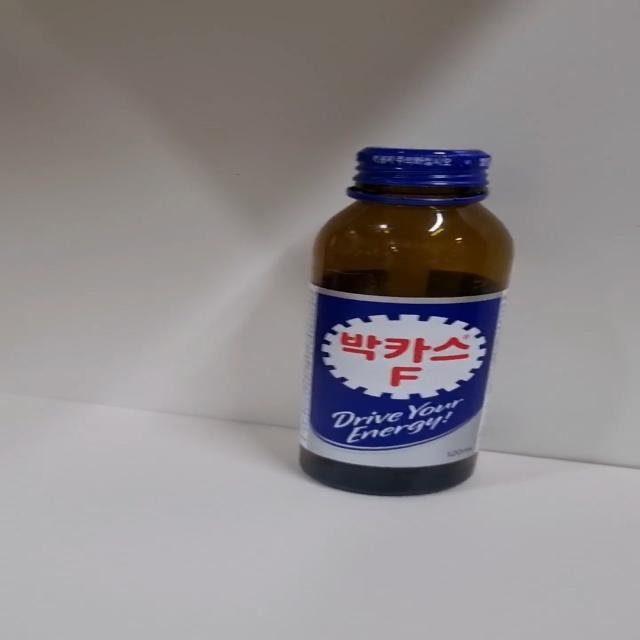Glass: (297, 147, 516, 498)
